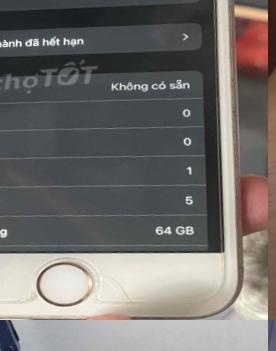scratch: (0, 320, 124, 351)
screen_defect: (92, 254, 156, 316)
